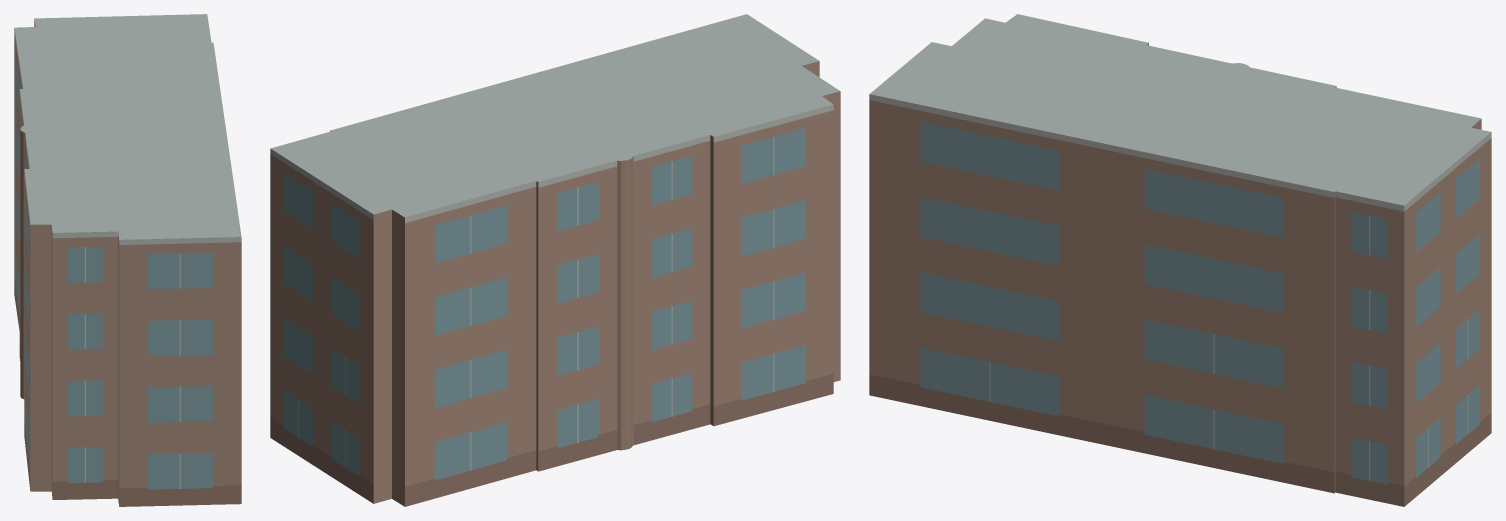
Rendered from survey-upis-32657485.glb.
The picture shows the model from 3 angles, left to right: view 1: azimuth 30°, elevation 25°; view 2: azimuth 150°, elevation 25°; view 3: azimuth 270°, elevation 25°; orthographic projection. The views are drawn at different scales.
Parts seen in each view (by area): view 1: survey-upis-32657485.tmp; view 2: survey-upis-32657485.tmp; view 3: survey-upis-32657485.tmp.
Boxes of the visible parts, box(x1,y1,x2,y2) form: survey-upis-32657485.tmp: box(14, 14, 241, 506); survey-upis-32657485.tmp: box(270, 14, 840, 506); survey-upis-32657485.tmp: box(869, 14, 1491, 506).
Size of the model in its own units: 16.93 by 12.4 by 23.22.
